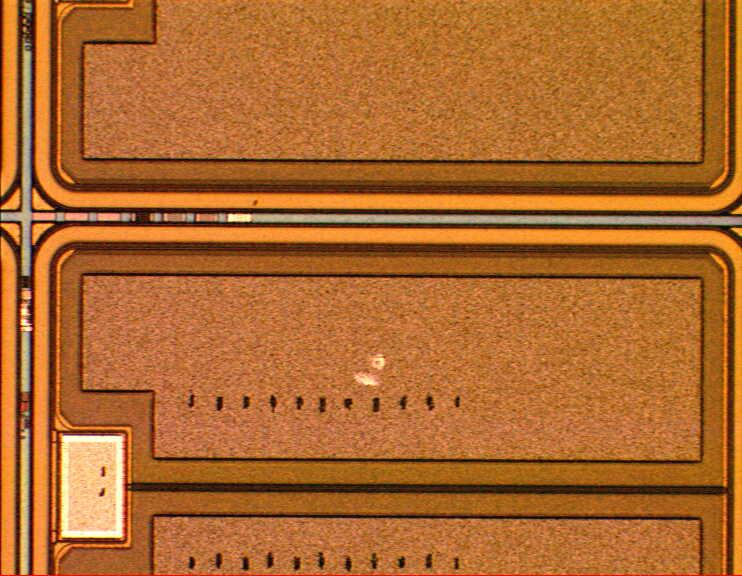SCRATCH: (330, 352, 410, 388)
